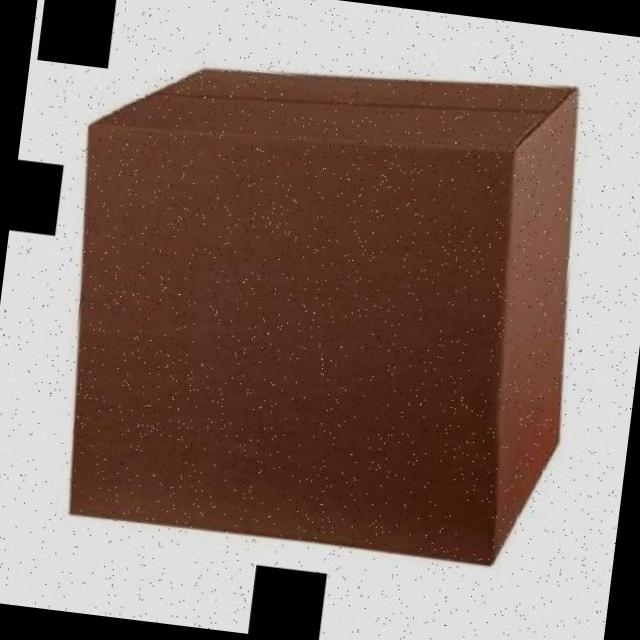box: (40, 26, 605, 577)
